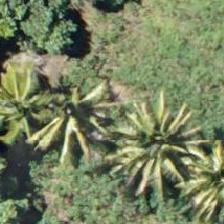coconut_tree: (9, 65, 99, 155), (93, 106, 183, 196), (0, 77, 57, 167), (172, 140, 223, 223)
